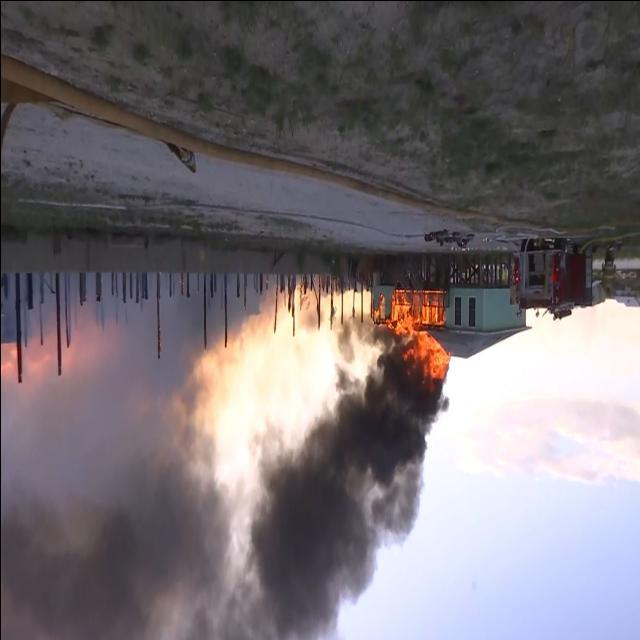Fire: (378, 285, 452, 394)
